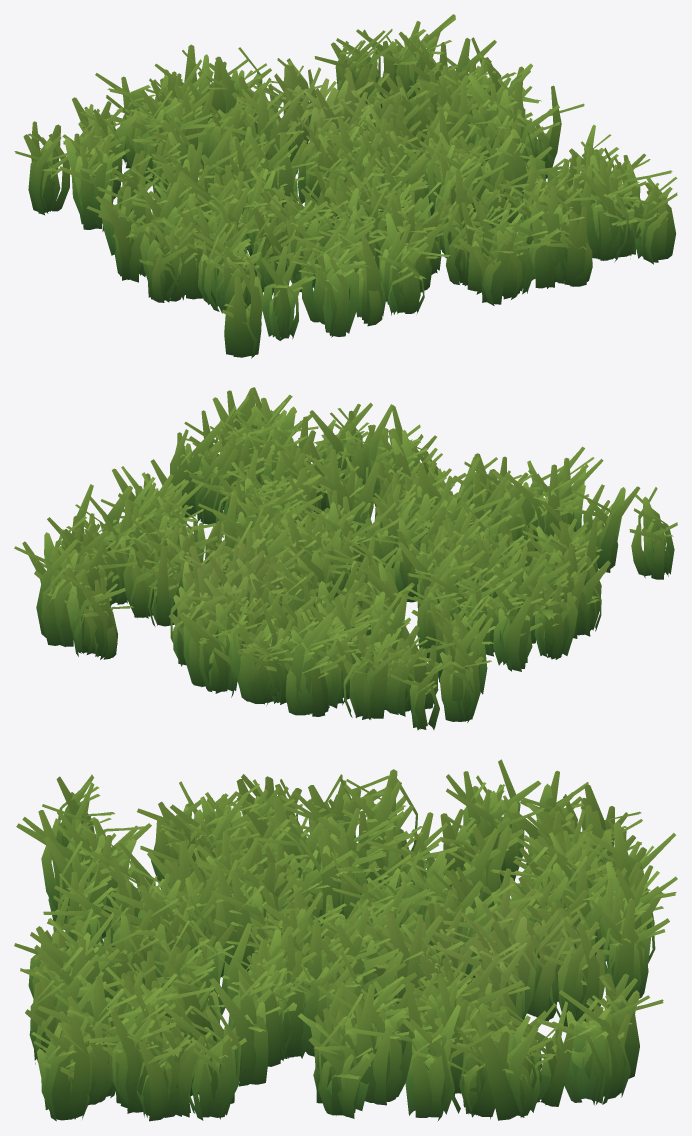
File: SM_StylizedGrass.fbx
The picture shows the model from 3 angles, top to bottom: view 1: azimuth 30°, elevation 25°; view 2: azimuth 150°, elevation 25°; view 3: azimuth 270°, elevation 25°; orthographic projection. The views are drawn at different scales.
Parts seen in each view (by area): view 1: SM_StylizedGrass; view 2: SM_StylizedGrass; view 3: SM_StylizedGrass.
Part boxes in pixels (x1,y1,x2,y2): SM_StylizedGrass: (14,14,677,358); SM_StylizedGrass: (14,387,677,730); SM_StylizedGrass: (14,759,677,1121).
Bounding box in the file's own units: 2.15 × 0.4092 × 2.13.
